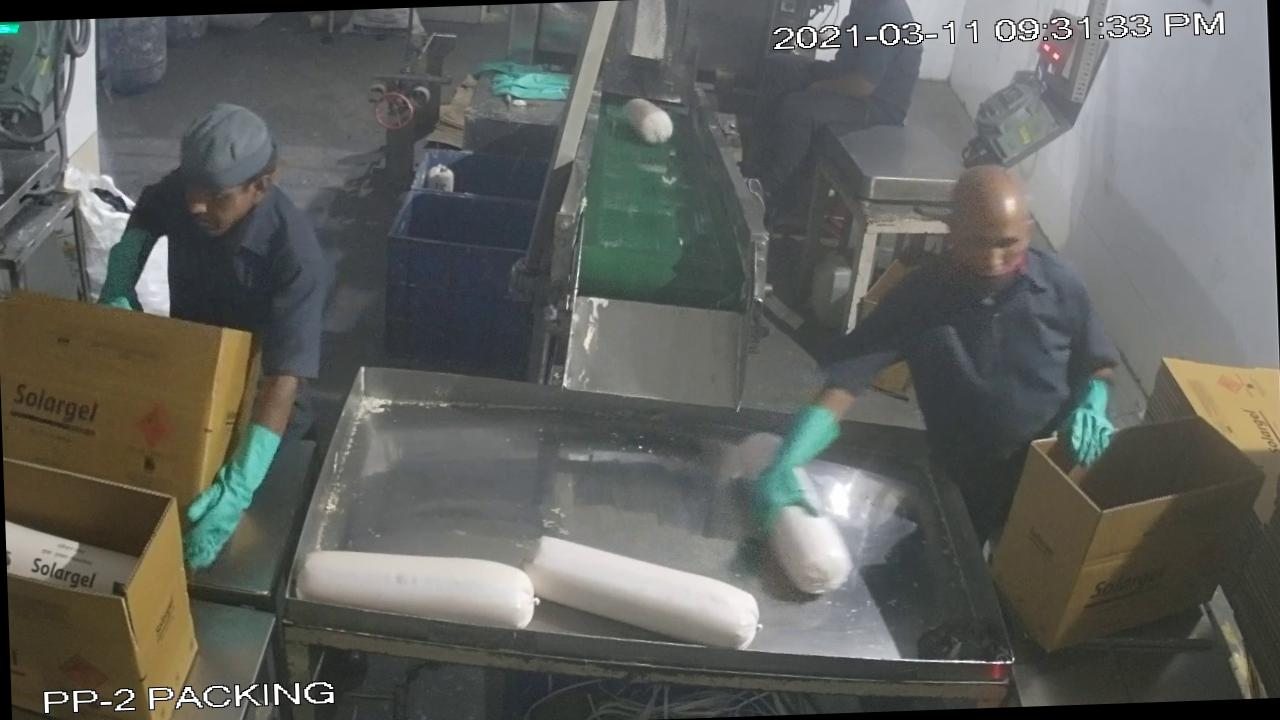Gloves: (166, 420, 296, 568), (734, 397, 862, 540), (1060, 361, 1134, 475)
